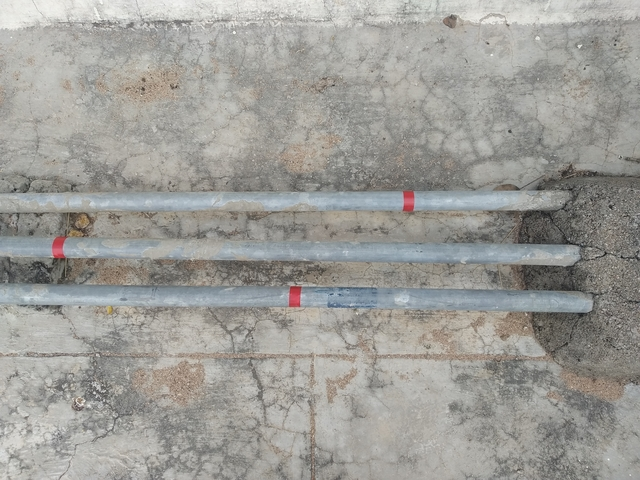rust: (286, 278, 306, 313), (50, 232, 70, 264), (398, 186, 417, 217)
